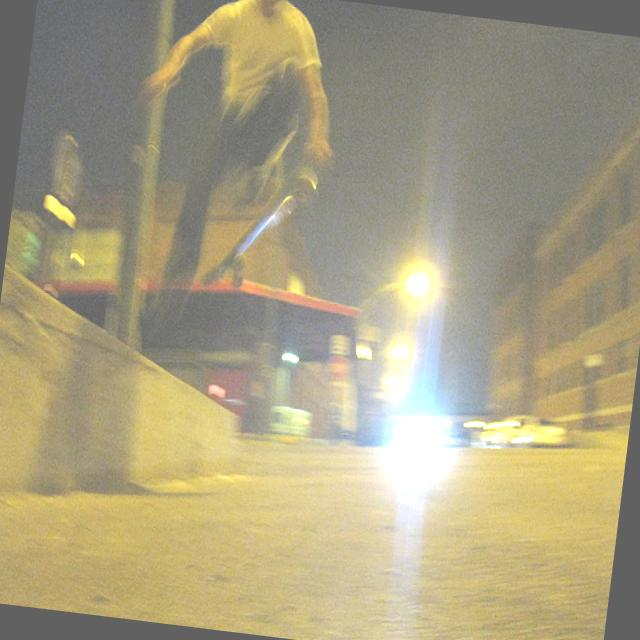Vehicle: (472, 406, 576, 460)
